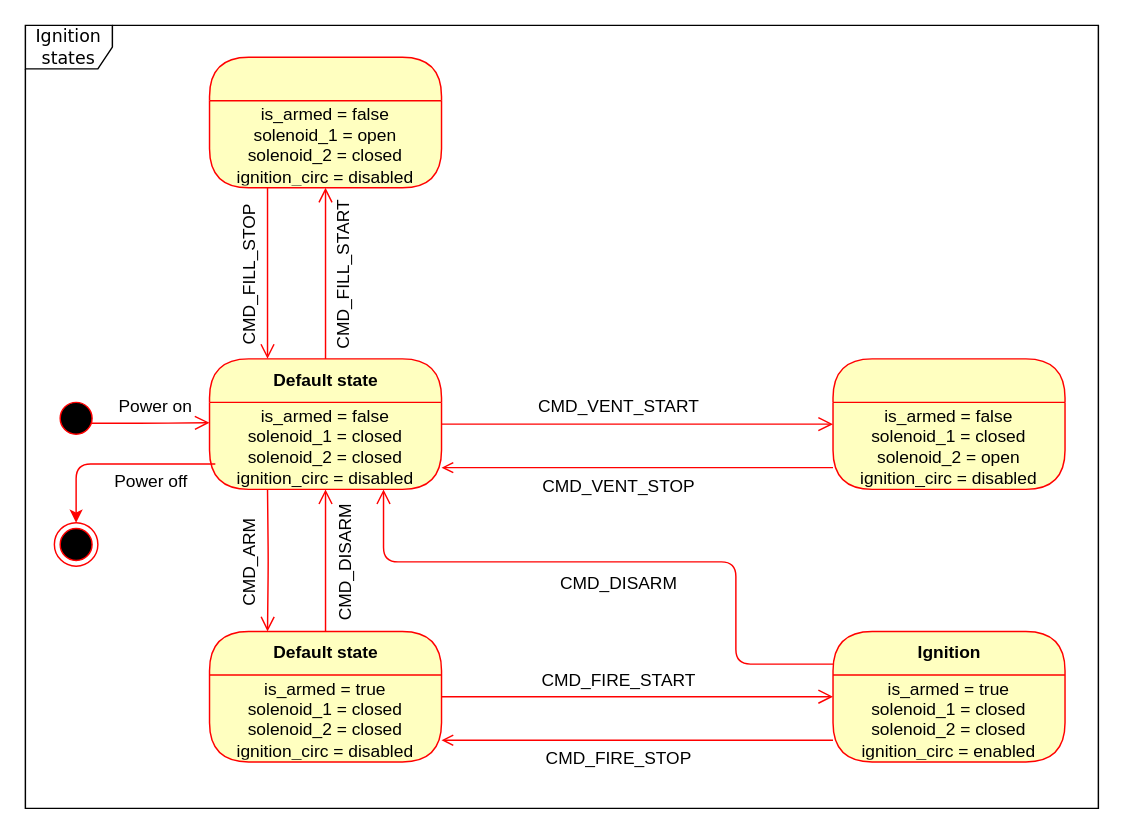
The diagram is 1124 pixels wide and 834 high, and some of its shapes have lost their labels. The shapes that lost their labels are listed below. From the top down, each one's box as (x1, y1, x2, y2) in pixels, then its label:
(208, 56, 442, 188): Filling
(832, 357, 1065, 489): Venting
